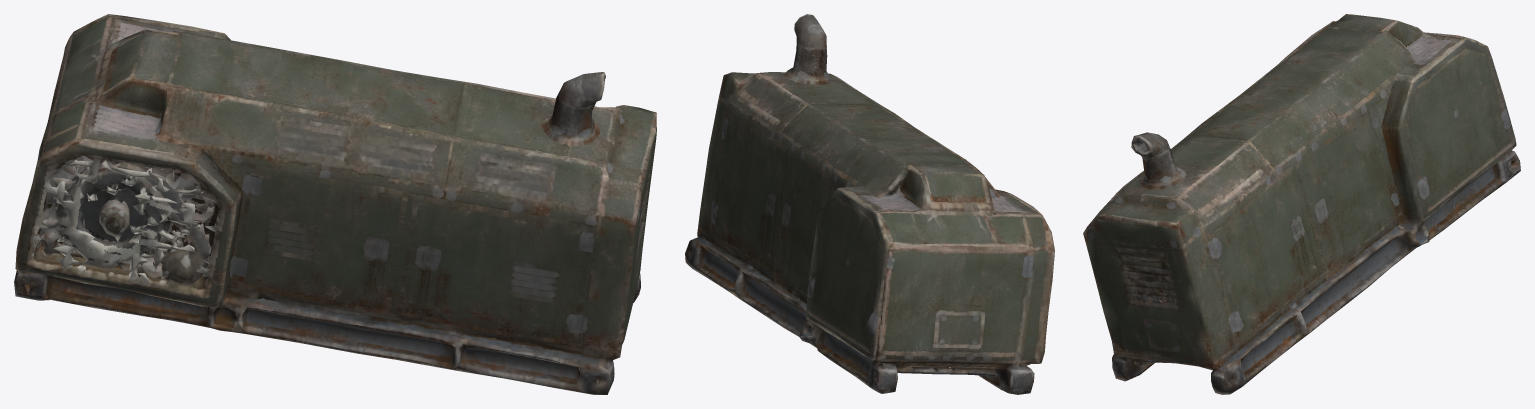
The model's file is bunker_diesel_generator_raw.glb.
3 views of the same model, side by side, from view 1: azimuth 30°, elevation 25°; view 2: azimuth 150°, elevation 25°; view 3: azimuth 270°, elevation 25° (orthographic). The views are drawn at different scales.
Size of the model in its own units: 0.9137 by 0.5131 by 0.8204.
Materials: 1 (1 with a texture image).
